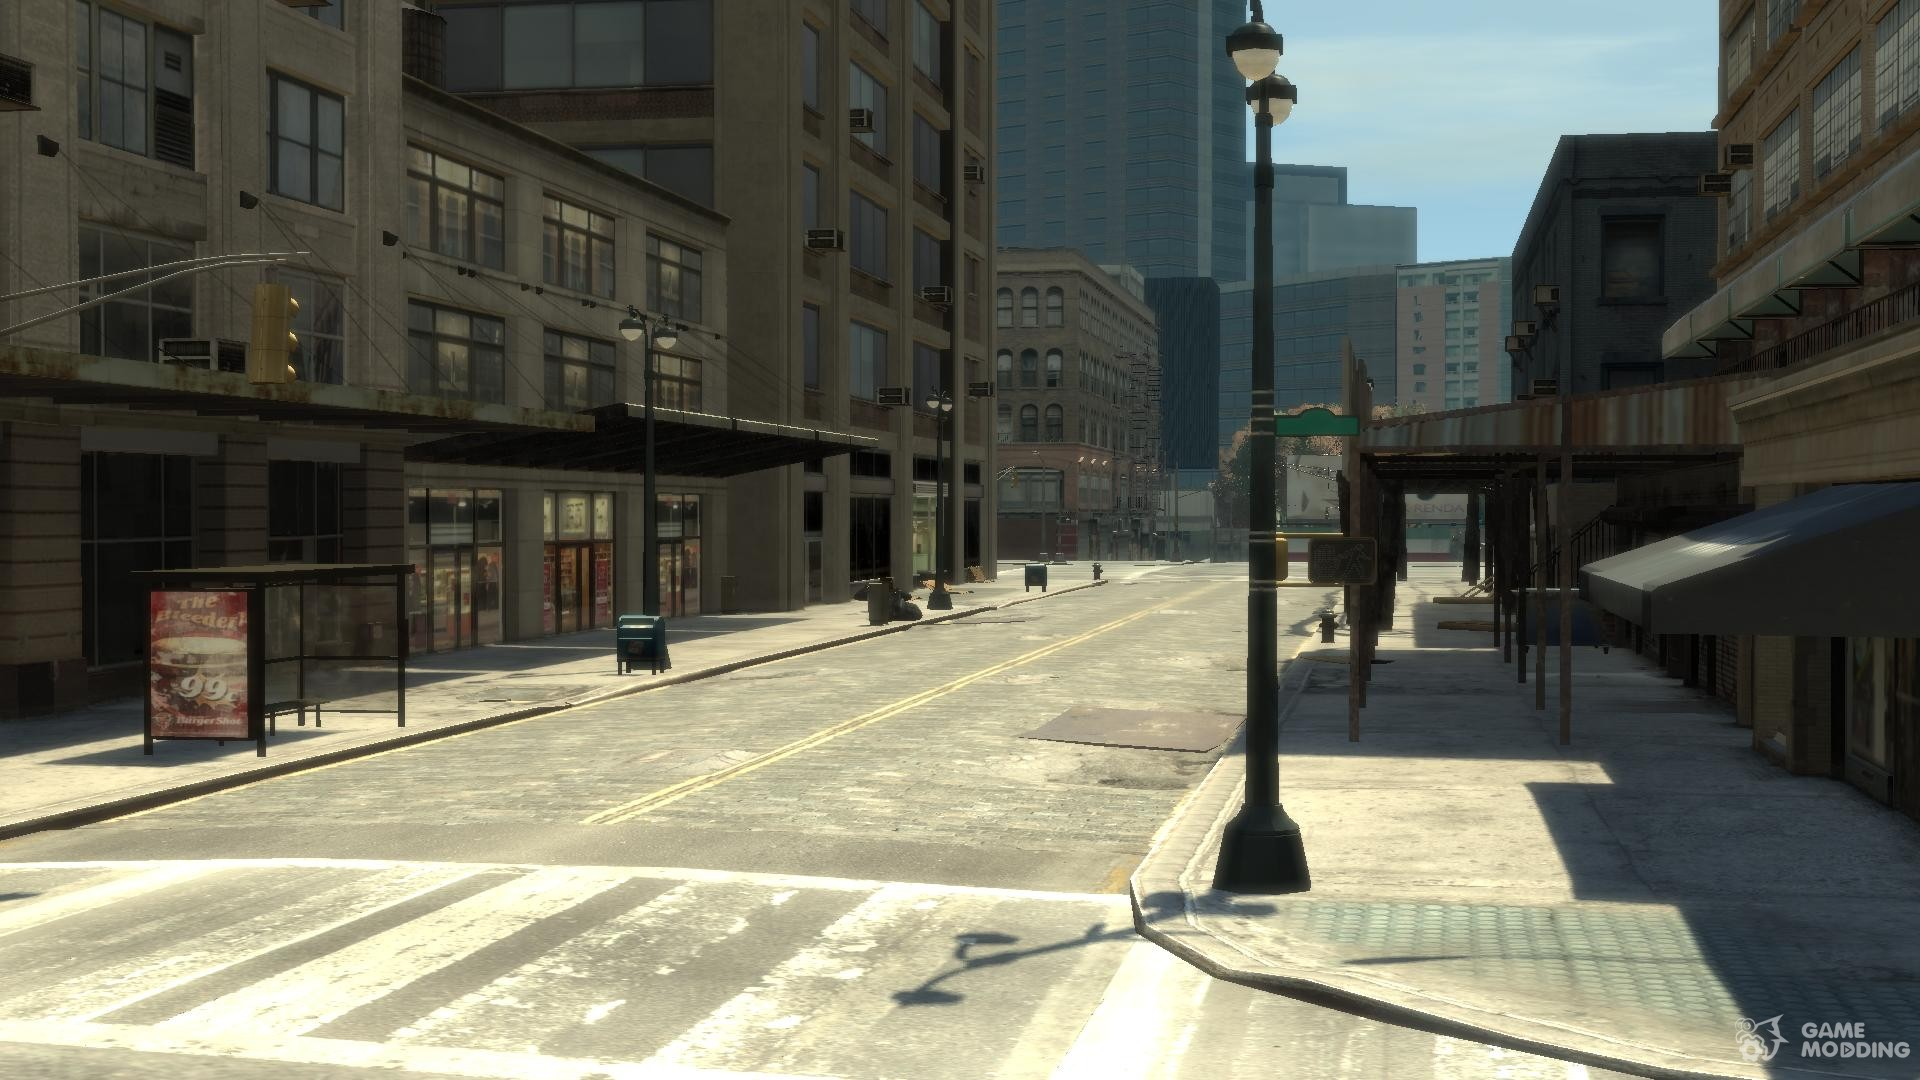strada: (396, 555, 1242, 845)
striscie pedonali: (18, 865, 1168, 1080)
